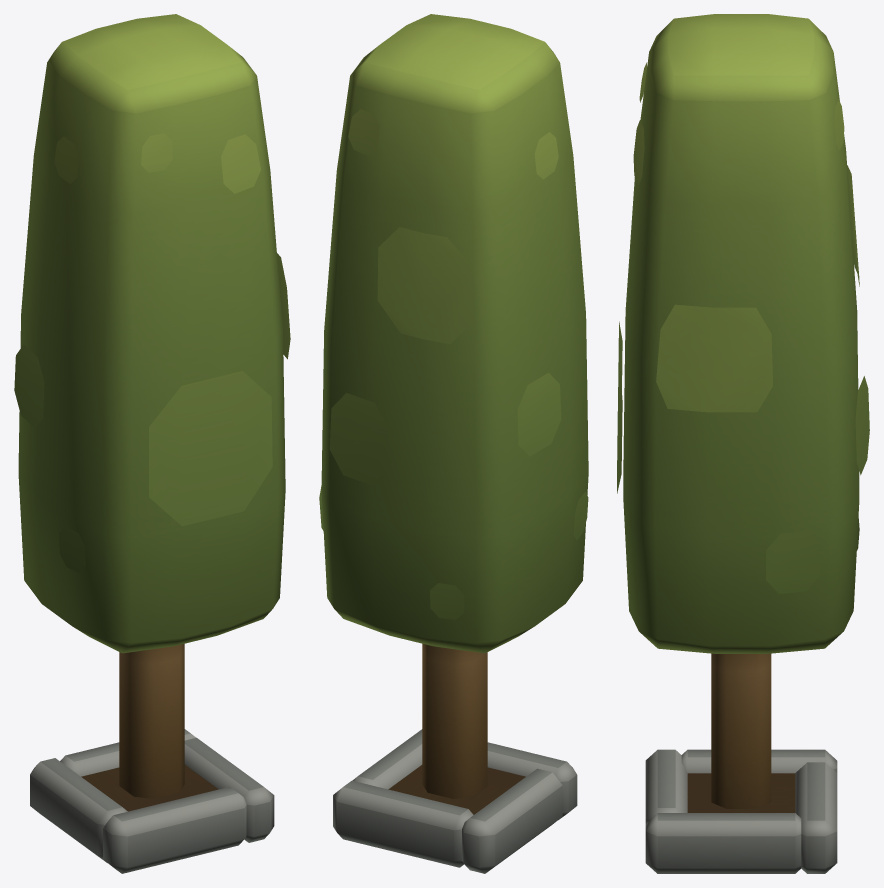
File: tree_6.fbx
The picture shows the model from 3 angles, left to right: view 1: azimuth 30°, elevation 25°; view 2: azimuth 150°, elevation 25°; view 3: azimuth 270°, elevation 25°; orthographic projection. The views are drawn at different scales.
Parts seen in each view (by area): view 1: tree_6; view 2: tree_6; view 3: tree_6.
Boxes of the visible parts, x1=… form: tree_6: x1=14, y1=14, x2=290, y2=873; tree_6: x1=319, y1=14, x2=588, y2=873; tree_6: x1=617, y1=14, x2=869, y2=873.
Size of the model in its own units: 211 by 737 by 211.
